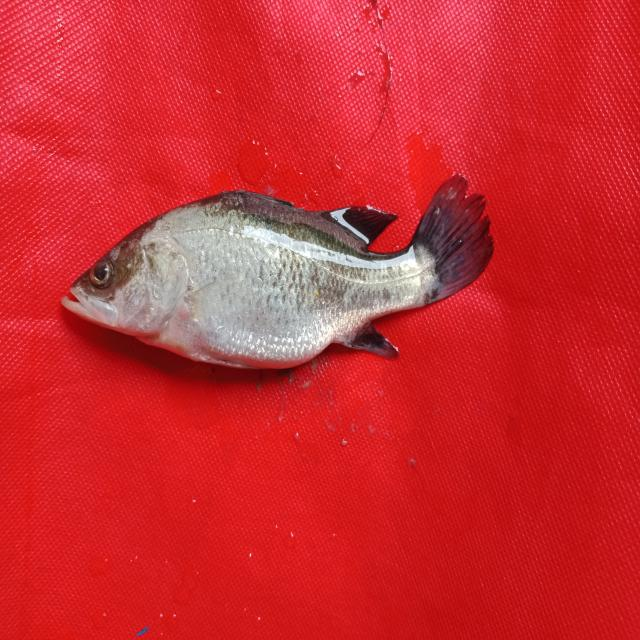ikan: (45, 162, 511, 400)
